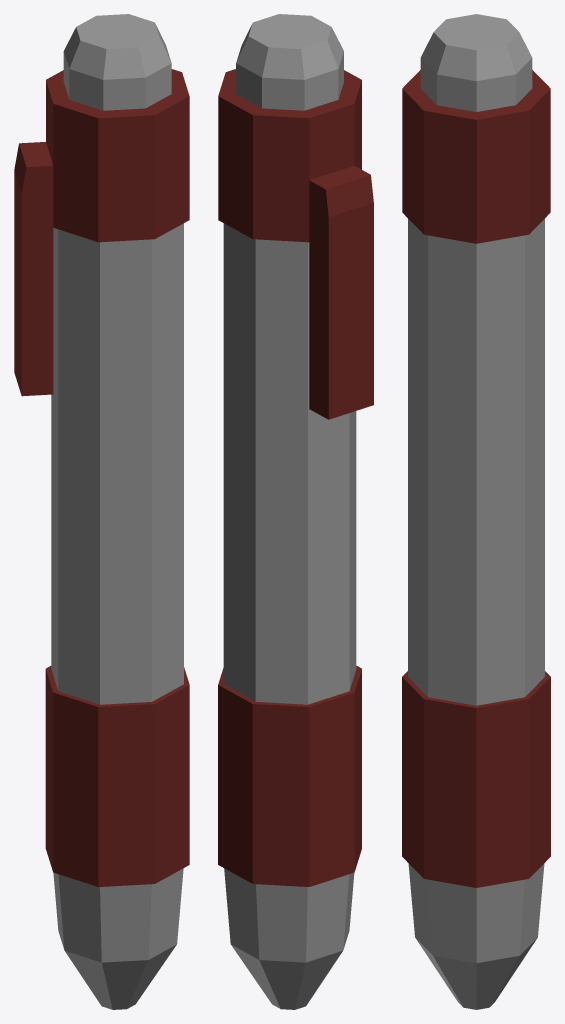
The model's file is pen3.fbx.
3 renders of one model, left to right at view 1: azimuth 30°, elevation 25°; view 2: azimuth 150°, elevation 25°; view 3: azimuth 270°, elevation 25°, orthographic.
Visible parts, largest first — view 1: pen3; view 2: pen3; view 3: pen3.
Boxes of the visible parts, x1,y1,x2,y2 form: pen3: [14, 14, 189, 1009]; pen3: [218, 14, 373, 1009]; pen3: [402, 14, 550, 1009].
Bounding box in the file's own units: 0.0218 × 0.1312 × 0.0183.
